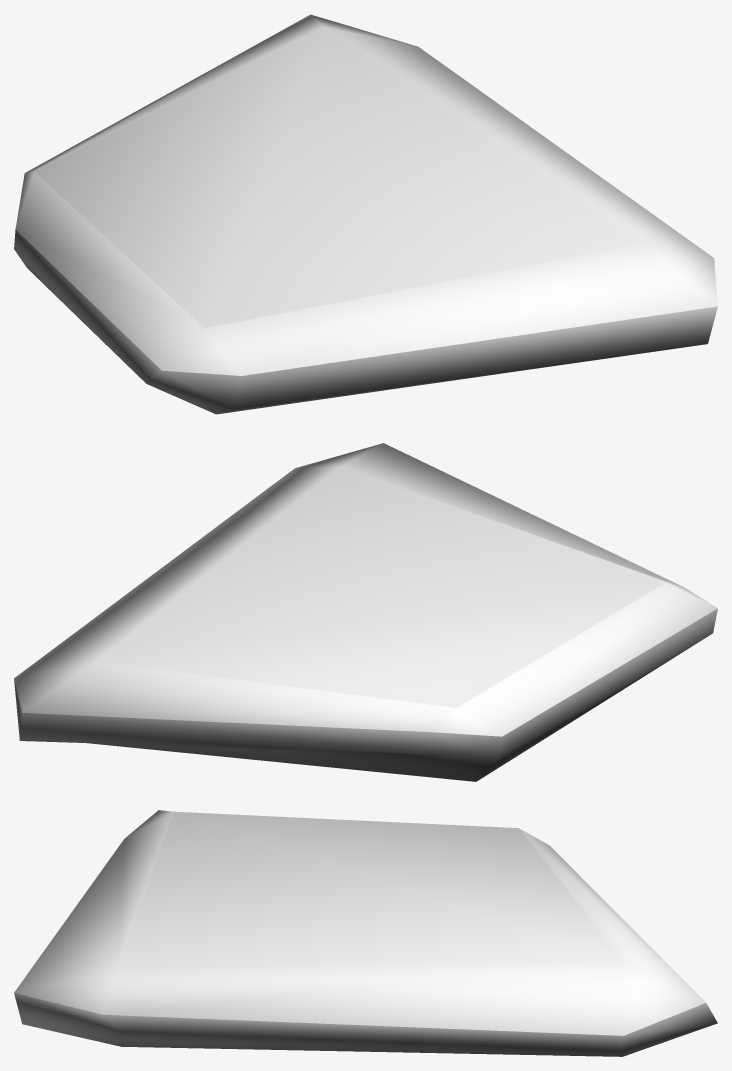
File: Rock 1.glb
3 views of the same model, one above another, from view 1: azimuth 30°, elevation 25°; view 2: azimuth 150°, elevation 25°; view 3: azimuth 270°, elevation 25° (orthographic). The views are drawn at different scales.
Visible parts, largest first — view 1: Rock 1; view 2: Rock 1; view 3: Rock 1.
Part boxes in pixels (<box>): Rock 1: <box>14,14,717,414</box>; Rock 1: <box>14,443,717,781</box>; Rock 1: <box>14,810,717,1056</box>.
Bounding box in the file's own units: 2.11 × 0.3759 × 2.85.
Materials: 1 (1 with a texture image).
